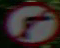Don't turn right: (4, 5, 50, 40)
